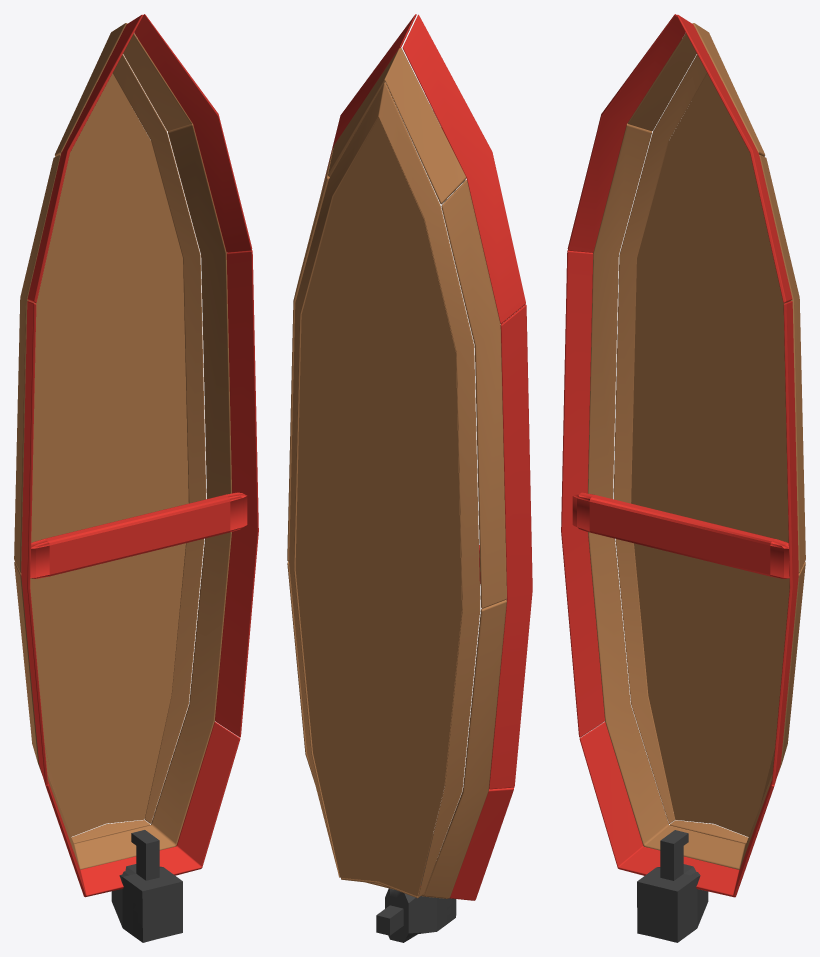
Rendered from boat2.gltf.
3 renders of one model, left to right at view 1: azimuth 30°, elevation 25°; view 2: azimuth 150°, elevation 25°; view 3: azimuth 330°, elevation 25°, orthographic.
Parts seen in each view (by area): view 1: Cube; view 2: Cube; view 3: Cube.
Part boxes in pixels (box(x1,y1,x2,y2)): Cube: box(14, 14, 258, 942); Cube: box(287, 14, 532, 942); Cube: box(561, 14, 805, 942).
Bounding box in the file's own units: 0.3256 × 1.22 × 0.1408.
